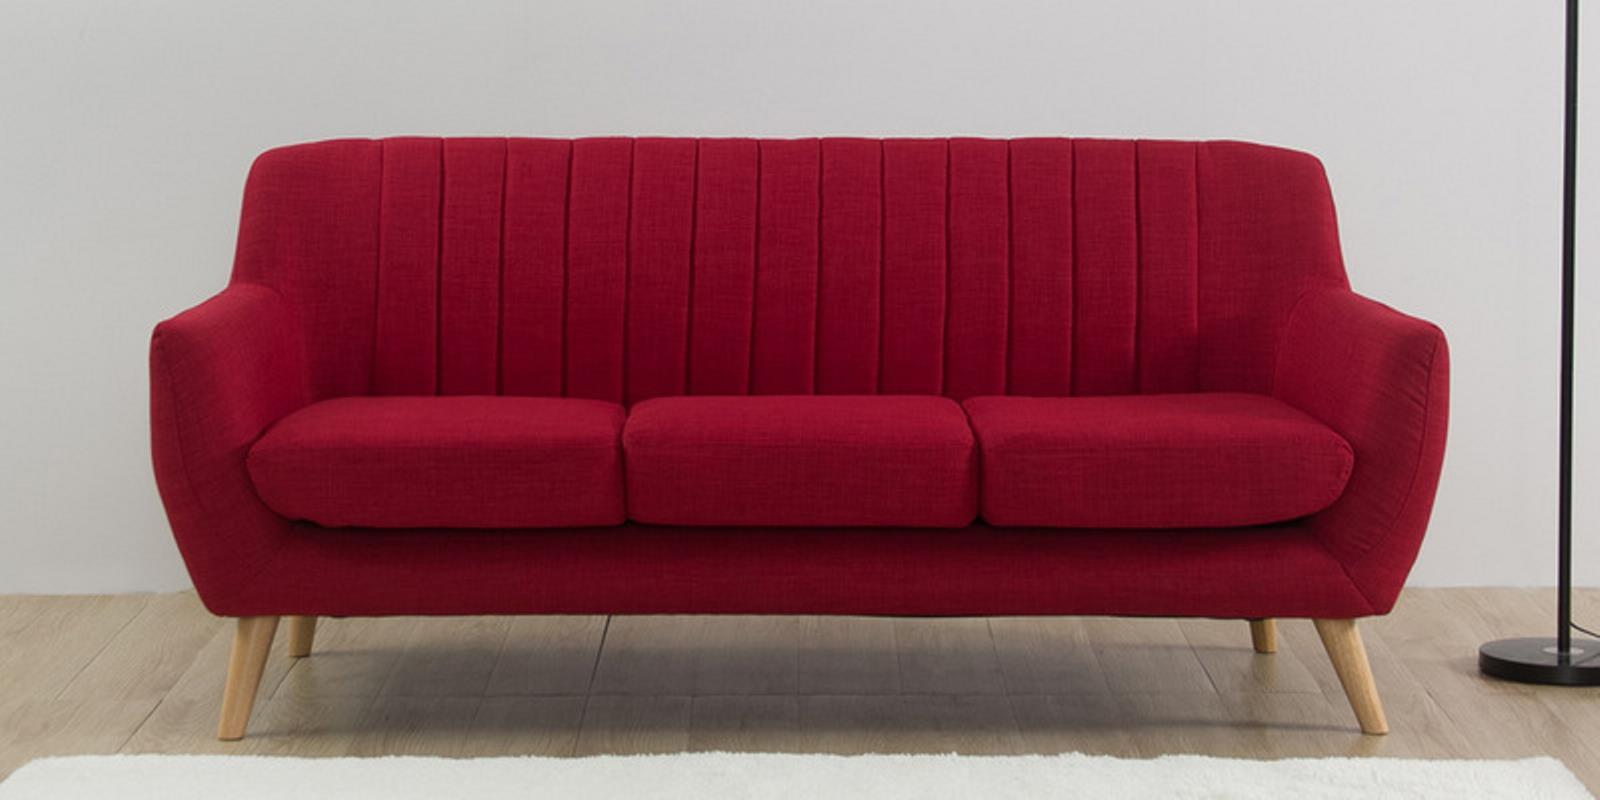Managua Three Seater Sofa in Red Colour by CasaCraft: (149, 134, 1449, 741)
